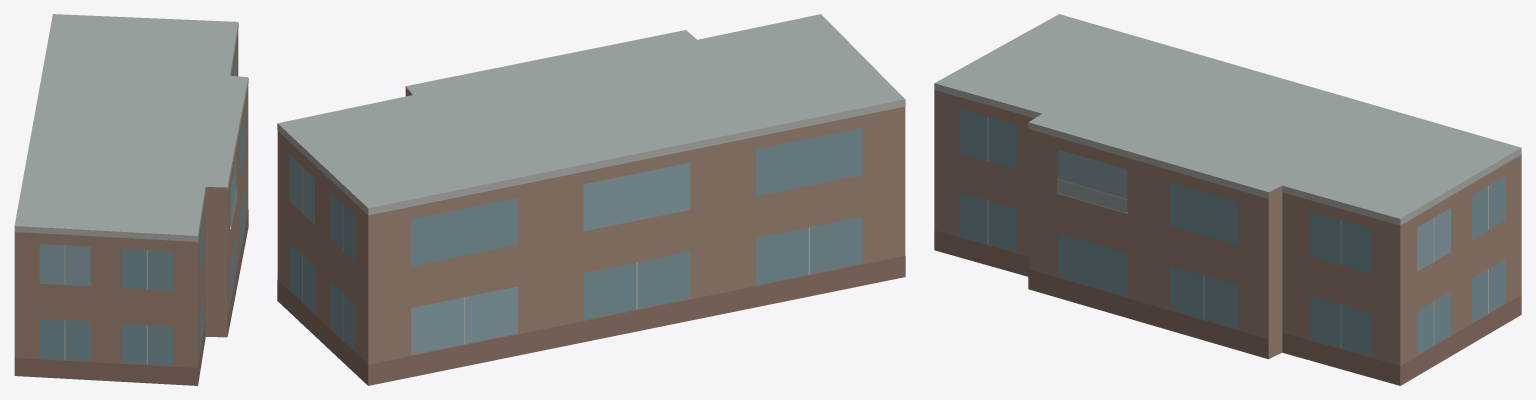
Rendered from survey-upis-32609182.glb.
The picture shows the model from 3 angles, left to right: view 1: azimuth 30°, elevation 25°; view 2: azimuth 150°, elevation 25°; view 3: azimuth 270°, elevation 25°; orthographic projection. The views are drawn at different scales.
Visible parts, largest first — view 1: survey-upis-32609182.tmp; view 2: survey-upis-32609182.tmp; view 3: survey-upis-32609182.tmp.
Part boxes in pixels (left/top/right/bottom): survey-upis-32609182.tmp: left=14, top=14, right=248, bottom=385; survey-upis-32609182.tmp: left=277, top=14, right=905, bottom=385; survey-upis-32609182.tmp: left=934, top=14, right=1521, bottom=385.
Bounding box in the file's own units: 16.06 × 6.1 × 19.46.
